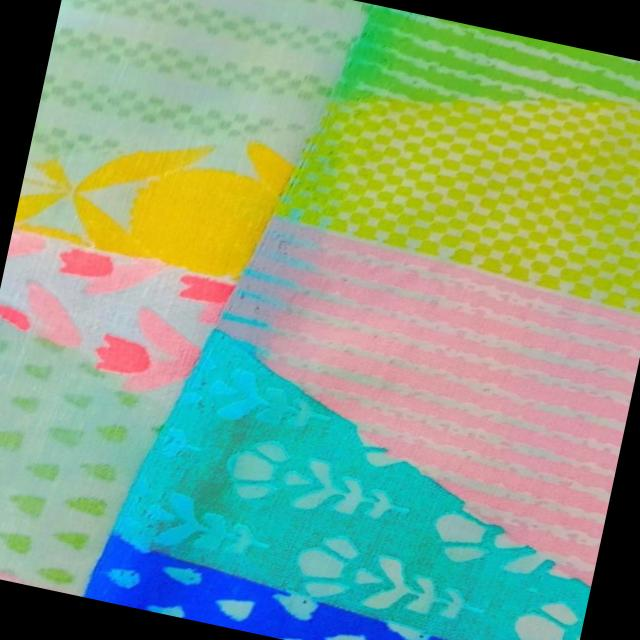color issues: (65, 319, 294, 629), (207, 0, 389, 356)
